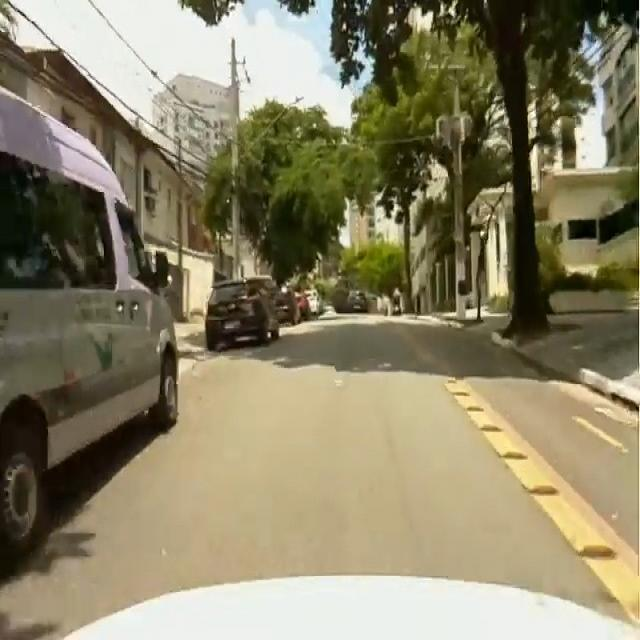car: (205, 280, 279, 350)
minivan: (0, 89, 178, 552)
